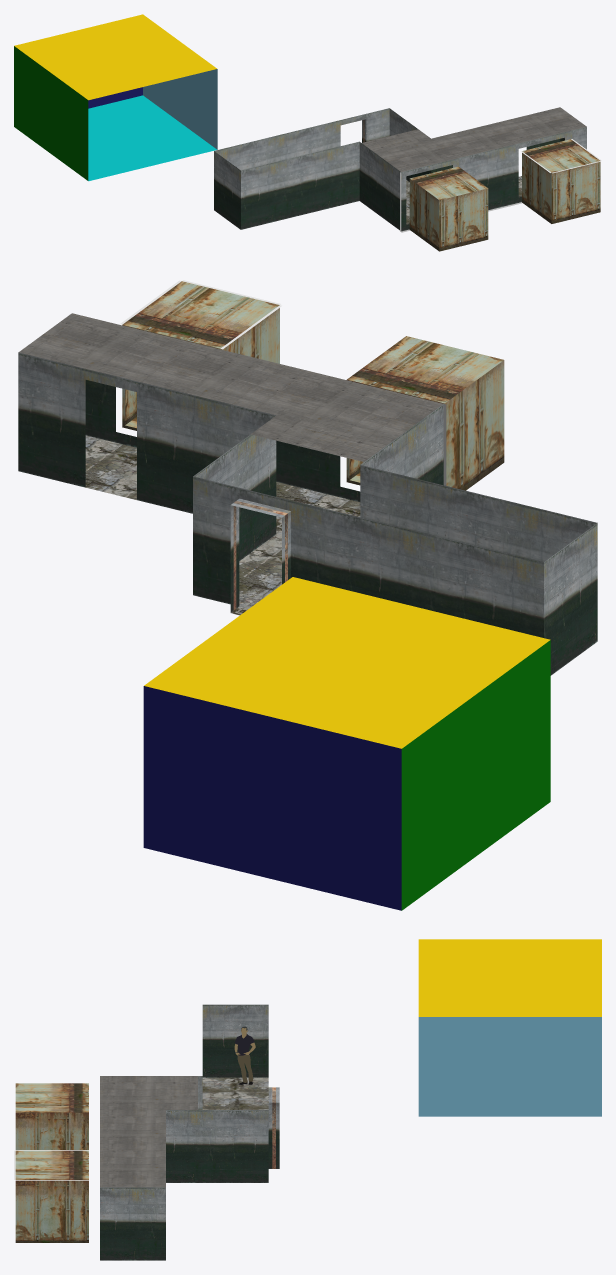
The model's file is test_room.dae.
The picture shows the model from 3 angles, top to bottom: view 1: azimuth 30°, elevation 25°; view 2: azimuth 150°, elevation 25°; view 3: azimuth 270°, elevation 25°; orthographic projection. The views are drawn at different scales.
Visible parts, largest first — view 1: group_3 (×5), group_0 (×2), group_2, group_1; view 2: group_3 (×3), group_0 (×4), group_2, group_1; view 3: group_3 (×2), group_0 (×3), group_1, group_2.
Part boxes in pixels (x1,y1,x2,y2): group_3 (×5): (14,14,217,181); group_0 (×2): (214,107,586,231); group_2: (409,166,488,251); group_1: (522,139,600,223); group_3 (×3): (143,577,550,910); group_0 (×4): (18,313,597,675); group_2: (346,336,504,490); group_1: (122,281,279,428); group_3 (×2): (418,939,601,1116); group_0 (×3): (100,1004,272,1260); group_1: (15,1150,88,1242); group_2: (15,1083,88,1149).
Size of the model in its own units: 563 by 632 by 120.
